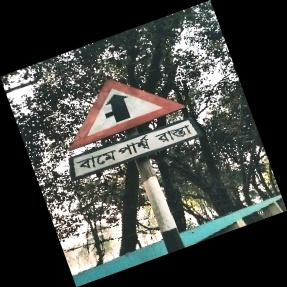Side-road-left: (67, 75, 201, 182)
